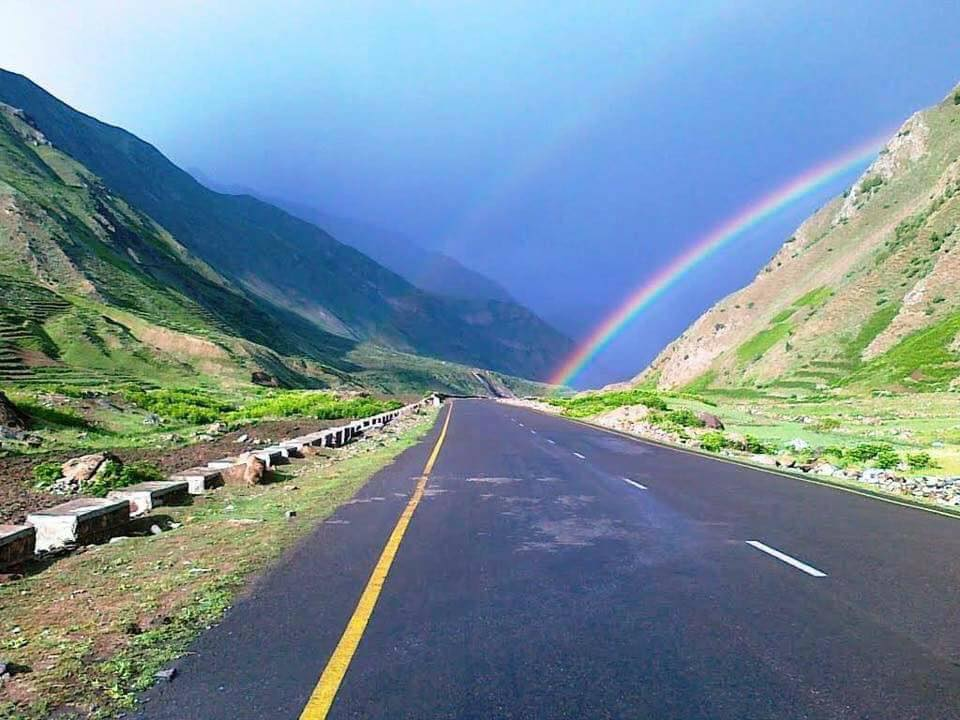straightRoad: (412, 374, 680, 628)
